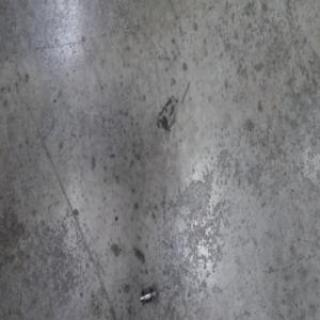Bolttrack_idkeyframe: (139, 284, 156, 306)
